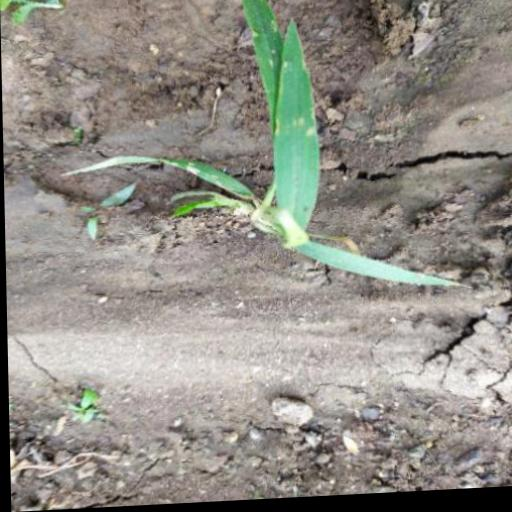weed: (62, 0, 481, 323)
